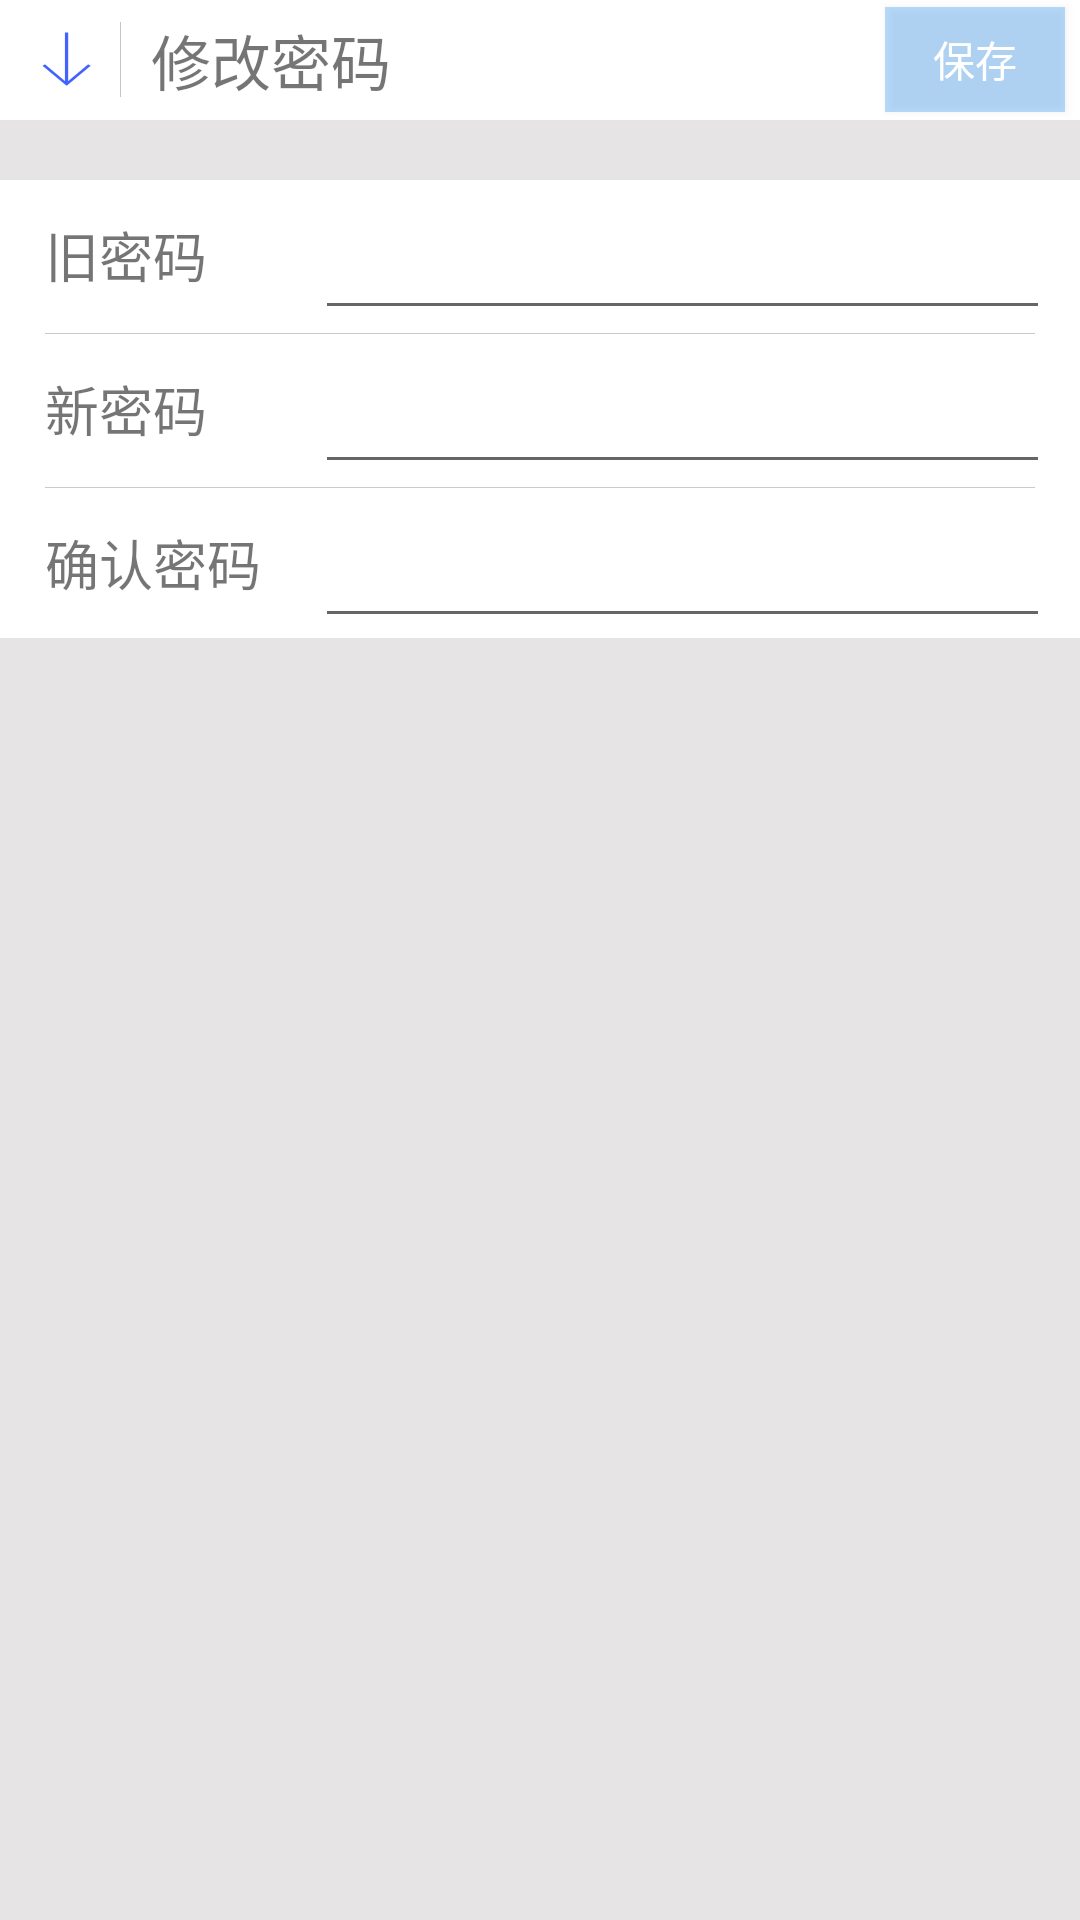

Where icons sit on this 1080 × 1920 app screen, as bbox=(x1, y1, x2, y2):
backdown: bbox=(43, 32, 91, 86)
